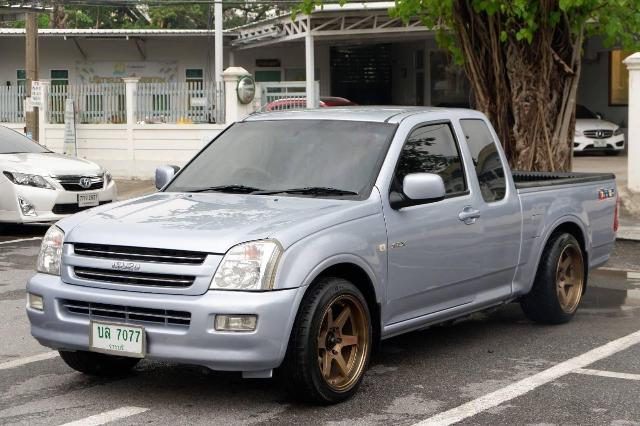pickup-truck: (23, 100, 628, 408)
